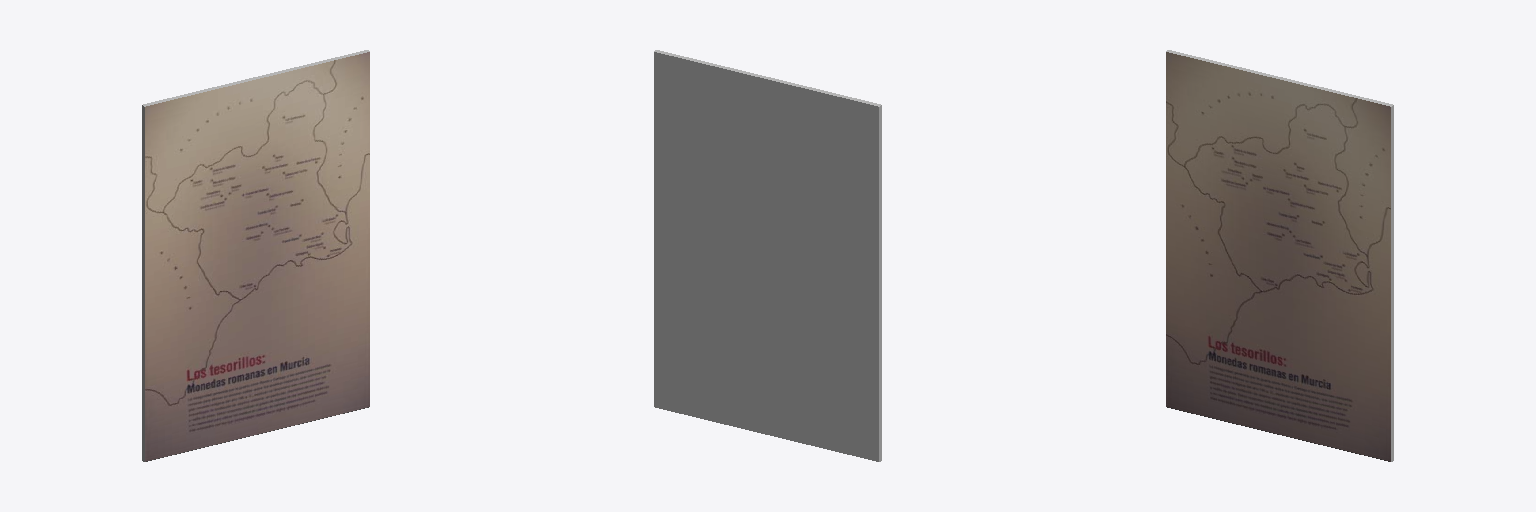
3 renders of one model, left to right at view 1: azimuth 30°, elevation 25°; view 2: azimuth 150°, elevation 25°; view 3: azimuth 330°, elevation 25°, orthographic.
Visible parts, largest first — view 1: SketchUp.001_ID10, SketchUp_ID2; view 2: SketchUp_ID2; view 3: SketchUp.001_ID10, SketchUp_ID2.
Part boxes in pixels (x1,y1,x2,y2): SketchUp.001_ID10: (145,52,369,461); SketchUp_ID2: (142,50,369,461); SketchUp_ID2: (654,50,881,461); SketchUp.001_ID10: (1166,52,1390,461); SketchUp_ID2: (1166,50,1393,461).
Bounding box in the file's own units: 188 × 283 × 3.94.
Materials: 2 (1 with a texture image).